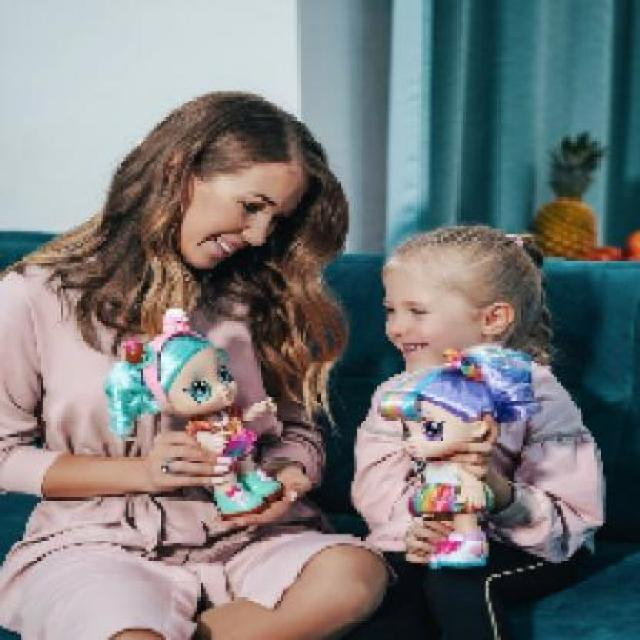child: (348, 225, 608, 638)
